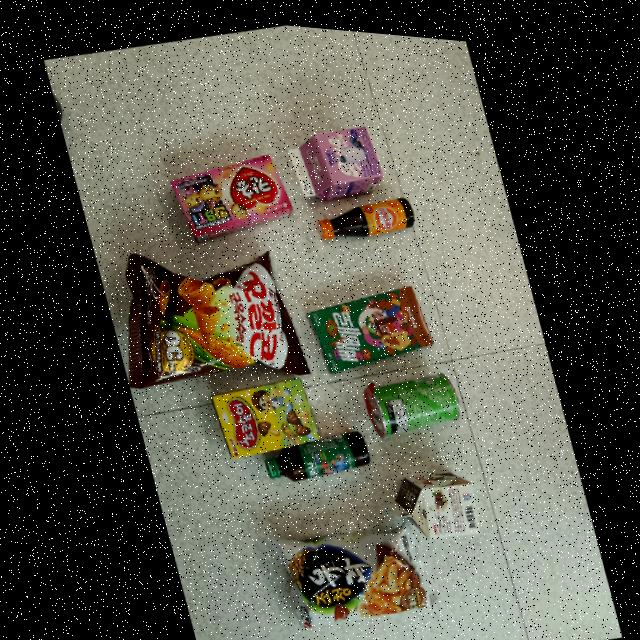bongji: (122, 246, 305, 386), (265, 514, 428, 625)
box: (306, 278, 430, 367), (168, 149, 290, 239), (207, 373, 315, 455)
canSnack: (360, 365, 456, 431)
energdrink: (260, 425, 366, 476), (315, 190, 412, 234)
milk: (287, 119, 381, 194), (383, 464, 475, 532)
